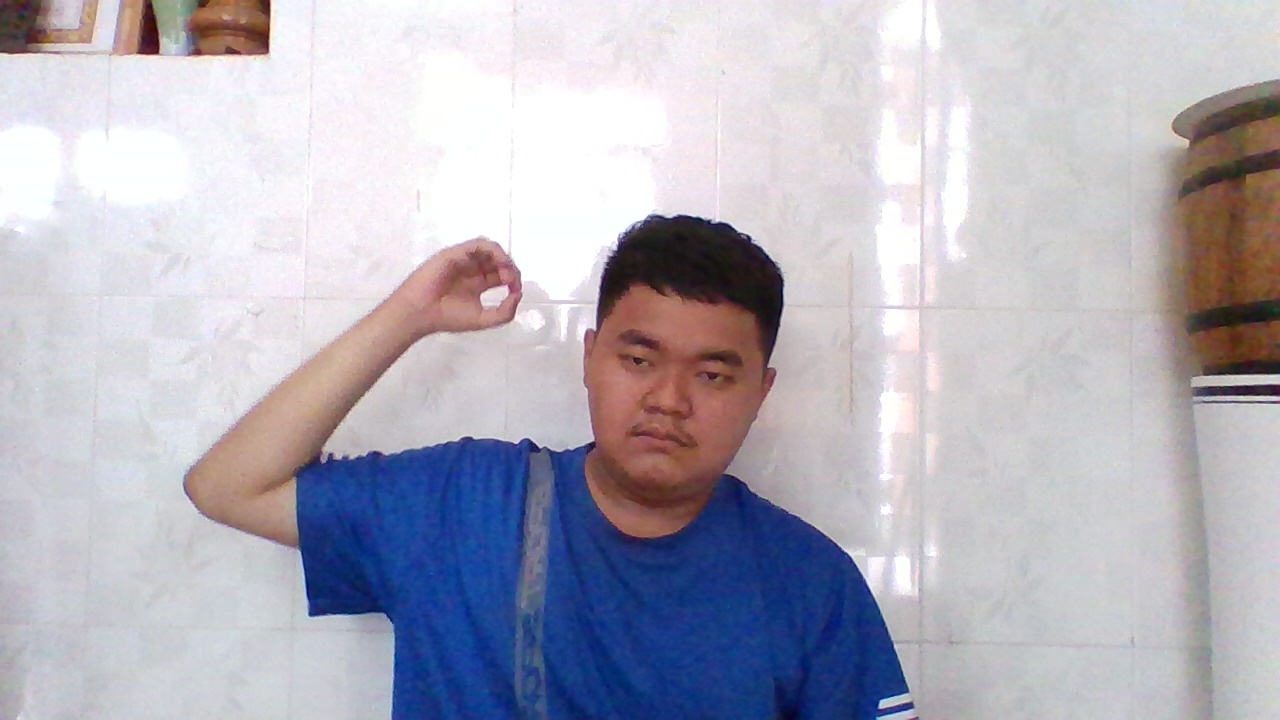O: (404, 225, 531, 340)
